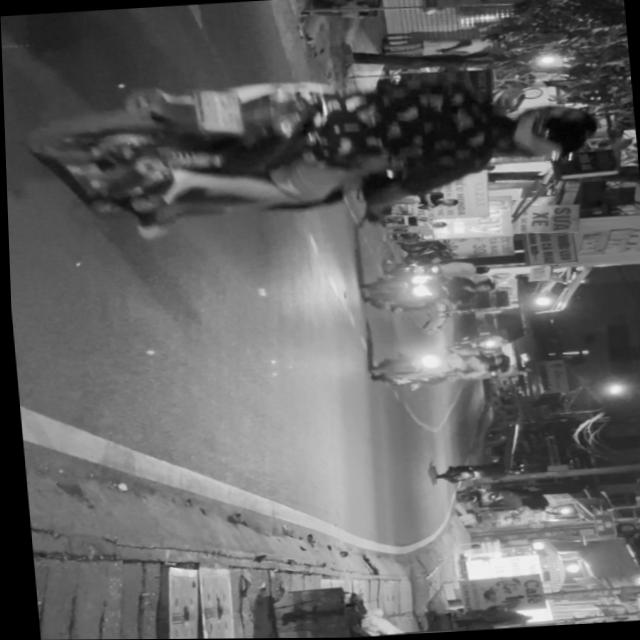helmet: (494, 102, 597, 163)
licenseplate: (6, 52, 608, 238)
nohelmet: (198, 89, 243, 134)
